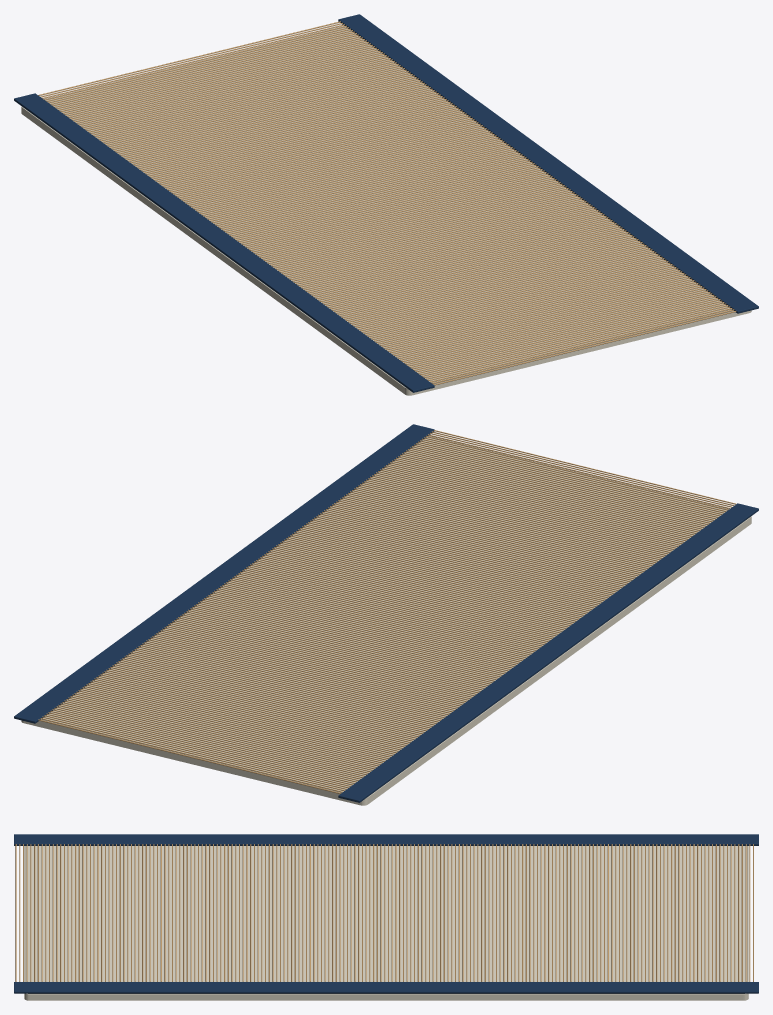
File: designed-rug-tatami.glb
3 renders of one model, top to bottom at view 1: azimuth 30°, elevation 25°; view 2: azimuth 150°, elevation 25°; view 3: azimuth 270°, elevation 25°, orthographic. The views are drawn at different scales.
Visible parts, largest first — view 1: designed-rug-tatami authored assembly; view 2: designed-rug-tatami authored assembly; view 3: designed-rug-tatami authored assembly.
Part boxes in pixels (x1,y1,x2,y2): designed-rug-tatami authored assembly: [14, 14, 758, 395]; designed-rug-tatami authored assembly: [14, 424, 758, 805]; designed-rug-tatami authored assembly: [14, 834, 758, 1000].
Size of the model in its own units: 0.9 by 0.025 by 1.8.
